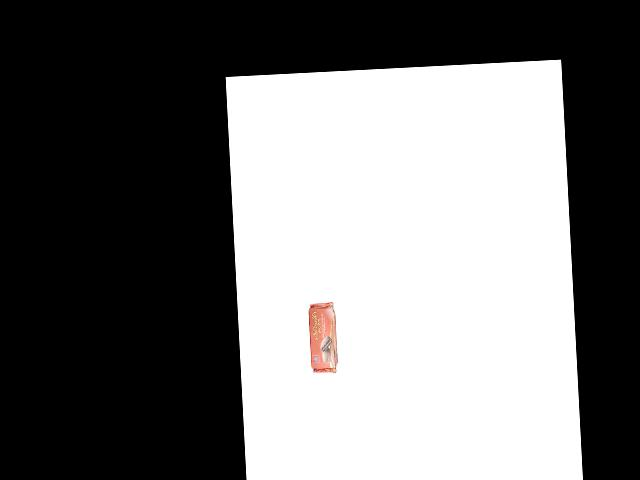chocolate: (307, 300, 344, 375)
